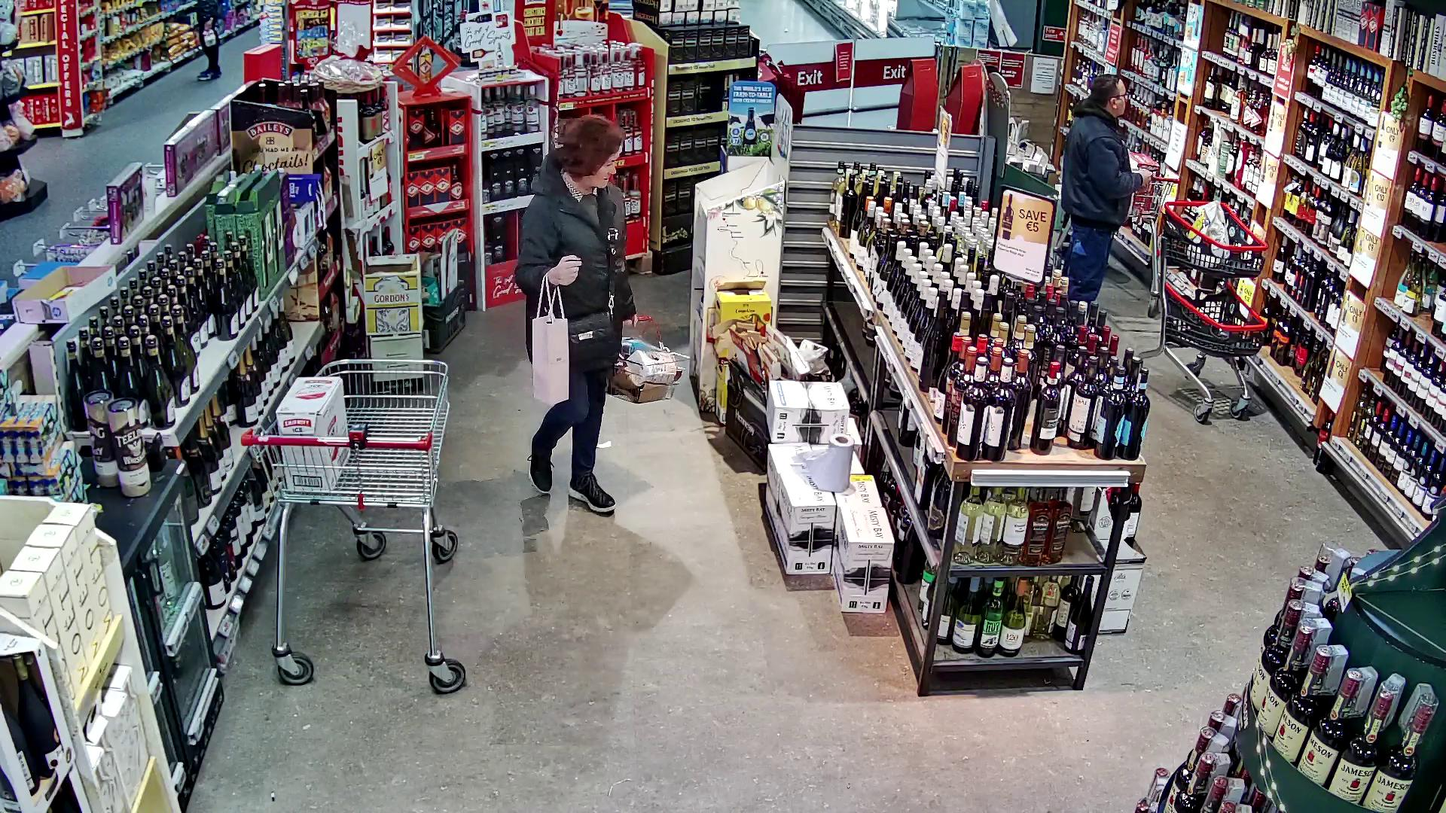backpack-or-handbag: (563, 311, 617, 359)
carrying-item: (532, 272, 570, 404)
filled-basket: (592, 313, 691, 404)
filled-trolly: (1132, 201, 1268, 424)
person: (517, 114, 638, 515), (1060, 73, 1152, 313)
person-with-basket-trolly-and-backpack-handbag: (517, 113, 690, 514)
person-with-filled-basket-trolly: (1060, 72, 1268, 425)
